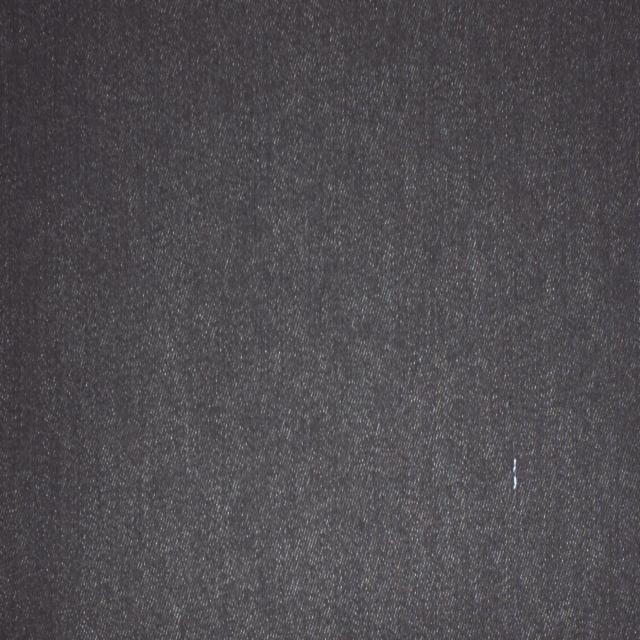Knot: (511, 455, 519, 495)
